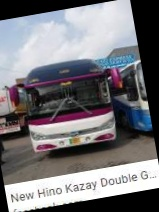bus: (4, 52, 132, 162)
